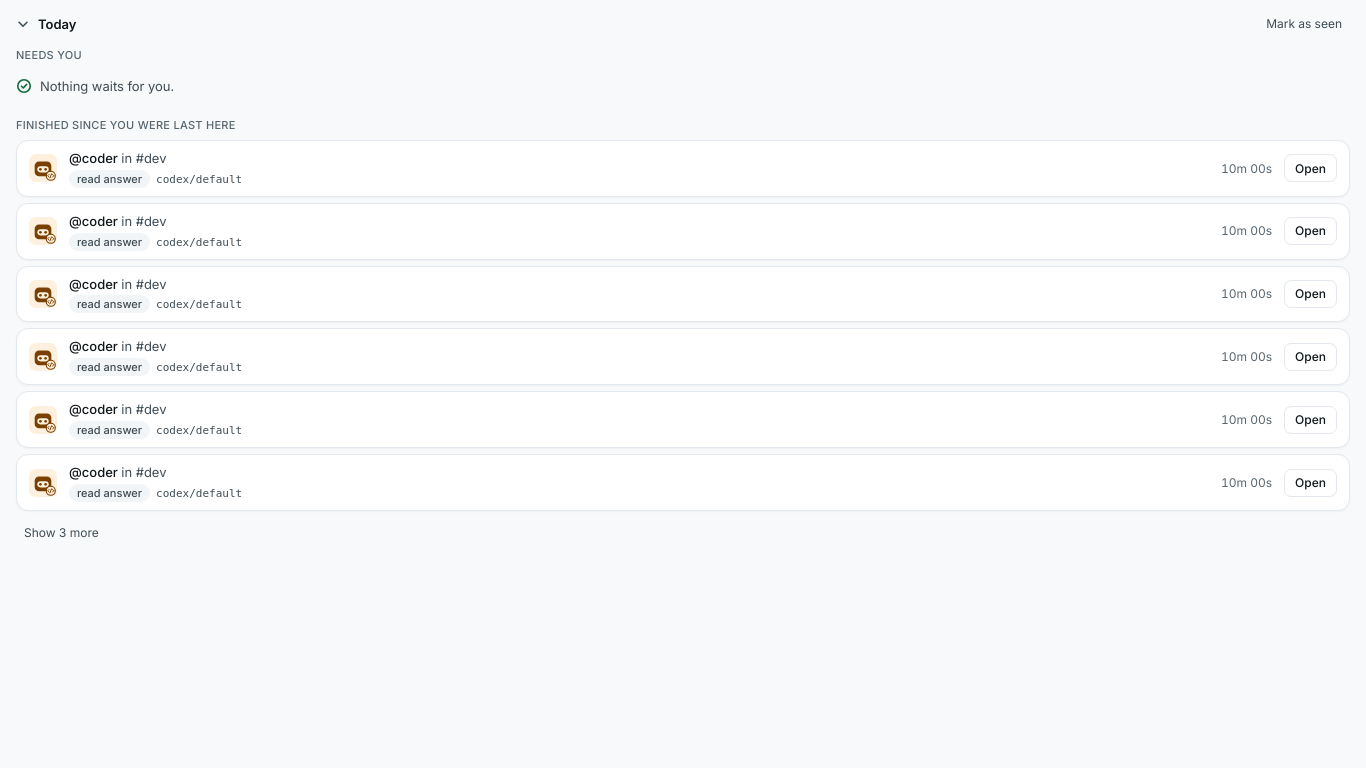
it: TodayBrief › shows six finished runs, then a button for the rest
This screenshot has width=1366, height=768.
Check: the text "read answer" is shown 6 times, box [69,170,150,188]; [69,233,150,251]; [69,295,150,313]; [69,358,150,376]; [69,421,150,439]; [69,484,150,502]
Click the button "Show 3 more" at (61, 533), box [16,517,107,549]
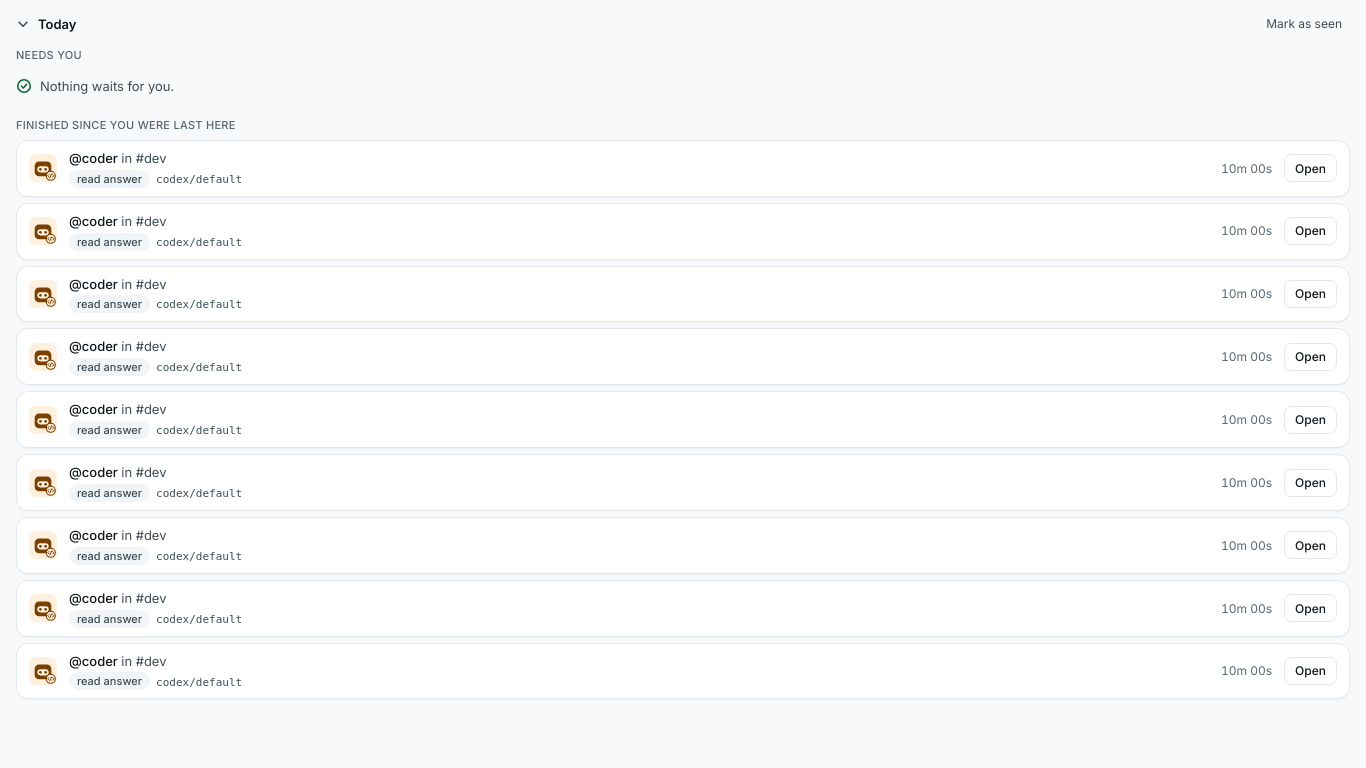
Check: the text "read answer" is shown 9 times
